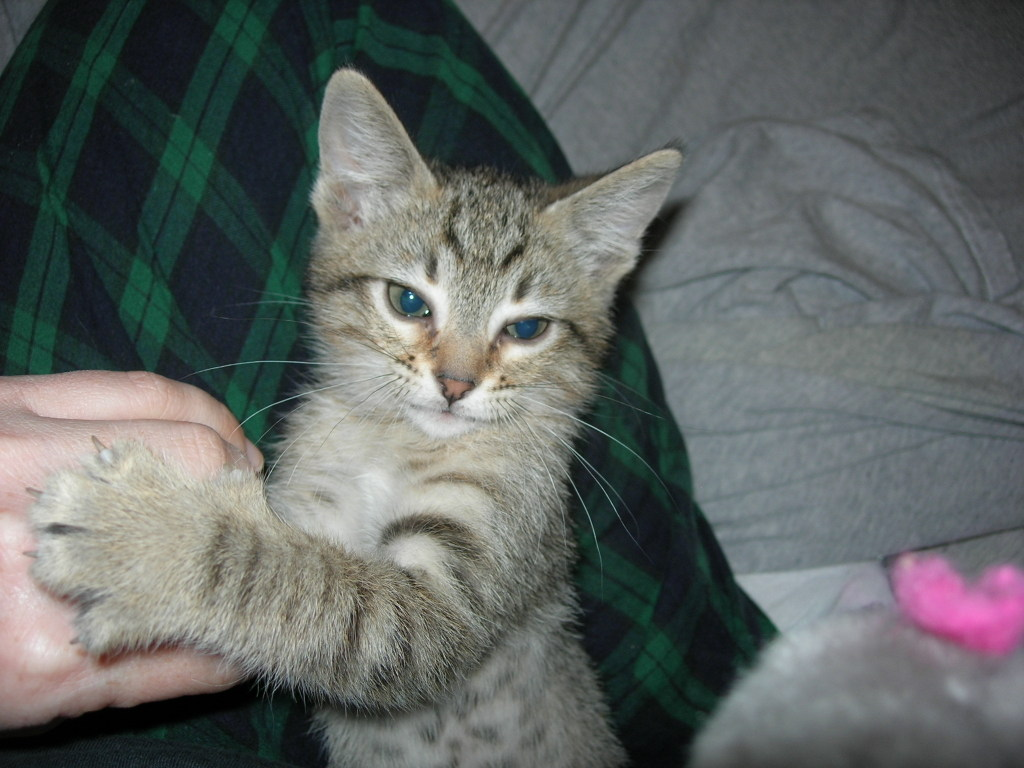cat: (25, 69, 688, 767)
